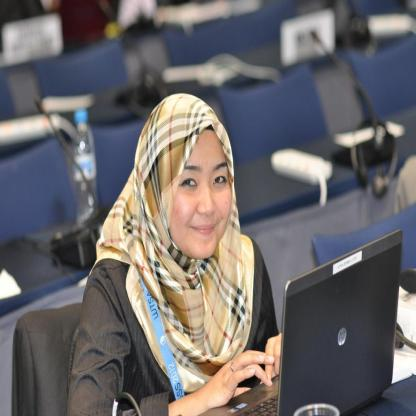board: (198, 229, 403, 416), (72, 108, 98, 226)
